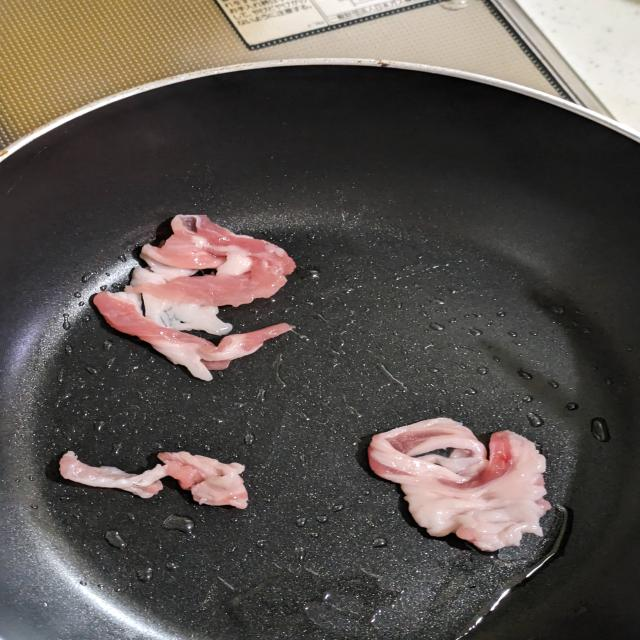NG raw pork,: (86, 206, 313, 392), (361, 408, 560, 564), (38, 443, 259, 517)
